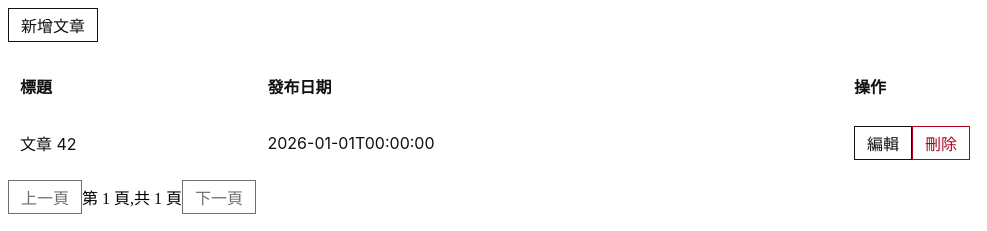
ArticlesList › 刪除確認互動(SDLCAIP1-14) › SDLCAIP1-14 AC5: API 回 502(靜態頁清除失敗)時視為已刪除,從列表移除並顯示非阻斷警示
Expected: the text "文章 42" is shown, [8,118,256,168]
Click the button with test id "delete-article-42".
click(941, 143)  # box [912,126,970,160]
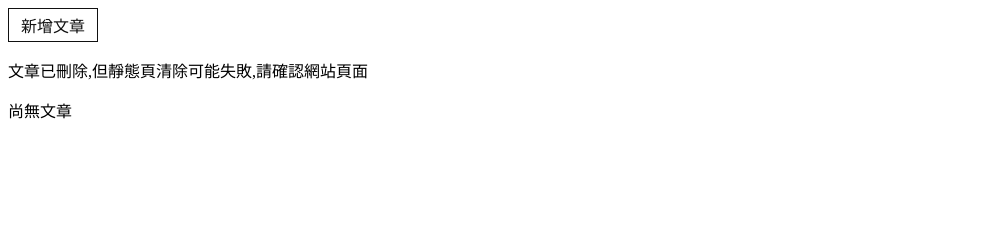
Now the text "尚無文章" is shown, box [8,103,72,120]
Now the message reads "文章已刪除,但靜態頁清除可能失敗,請確認網站頁面", box [8,63,368,80]
